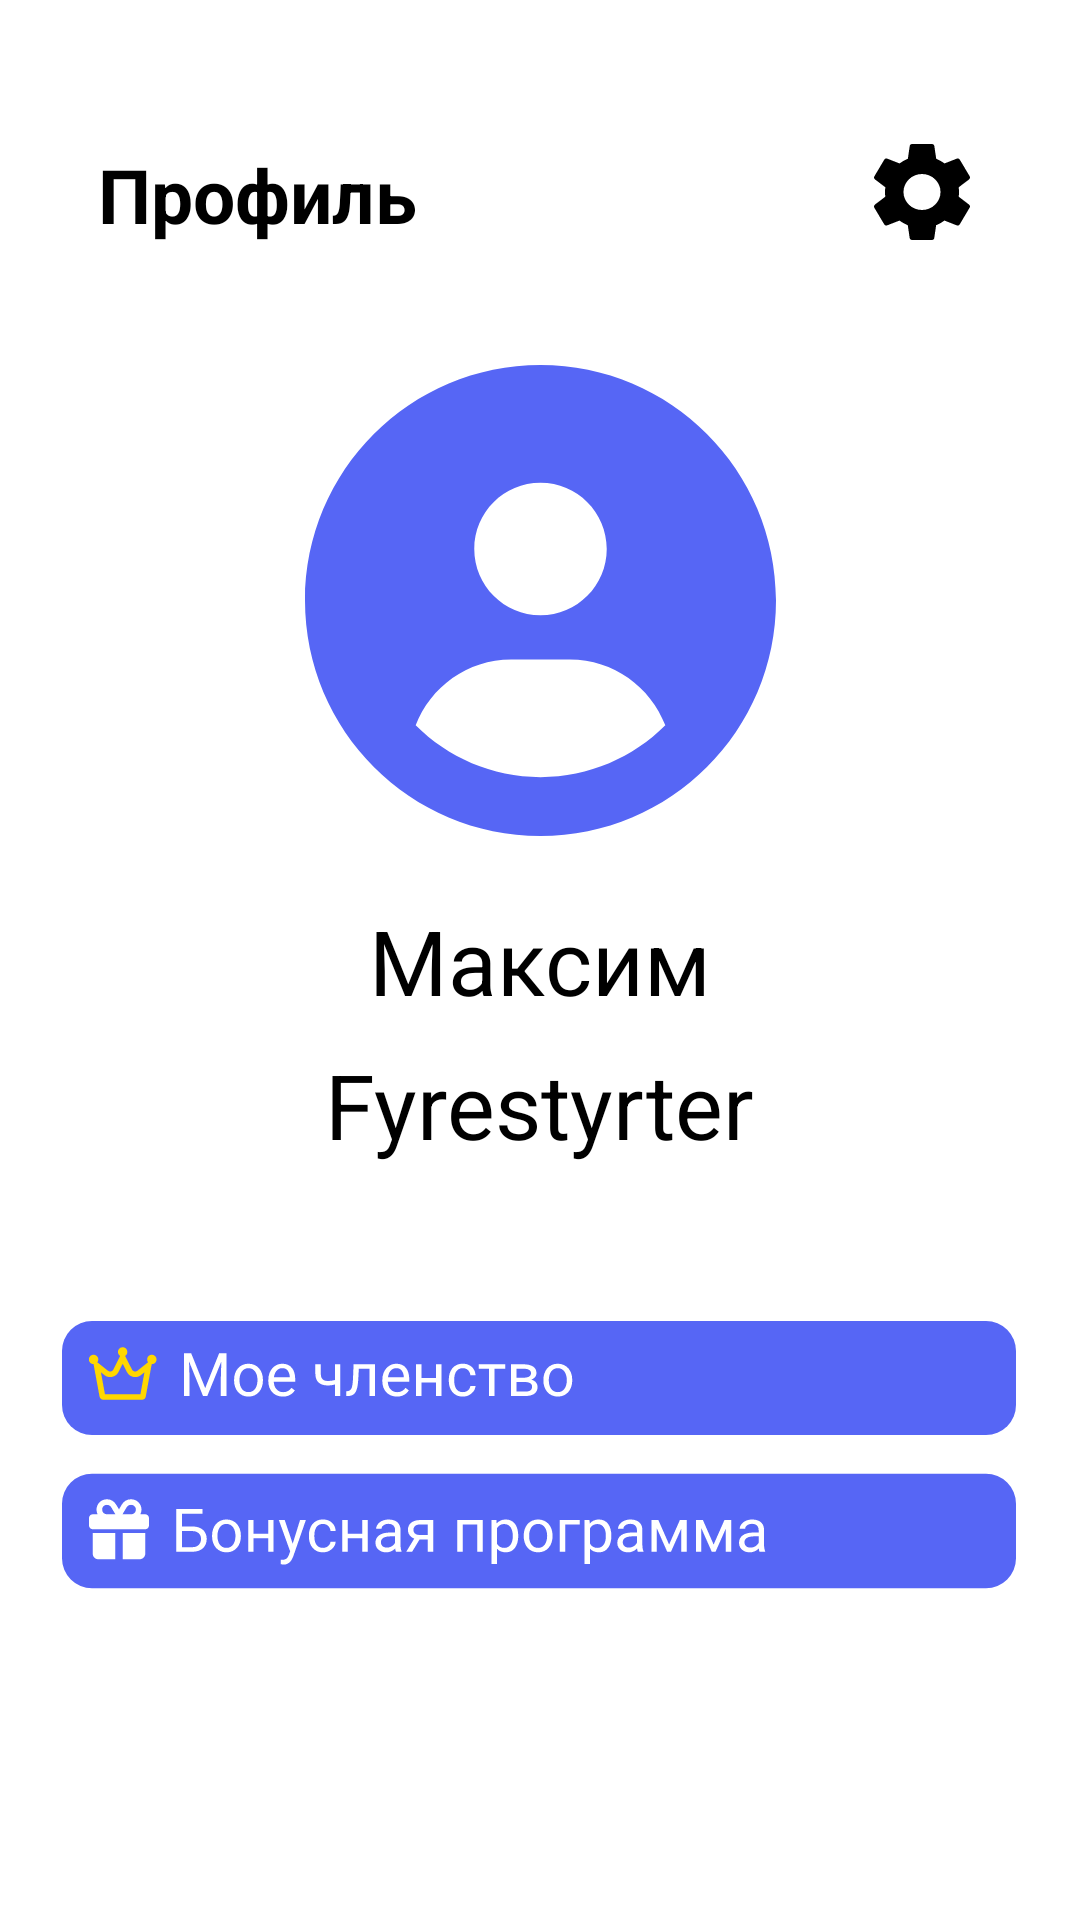

Named icons in this screenshot (1080*1920) and their centers, [x,y]:
btnsettings: [922,192]
